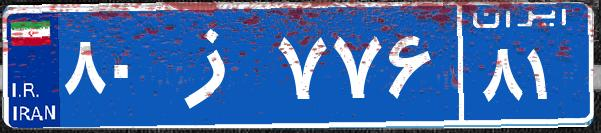0: (110, 28, 158, 105)
1: (525, 38, 570, 115)
6: (385, 28, 445, 110)
7: (273, 28, 330, 110), (330, 28, 385, 110)
8: (57, 26, 110, 107), (475, 38, 525, 113)
ز: (158, 15, 273, 115)
